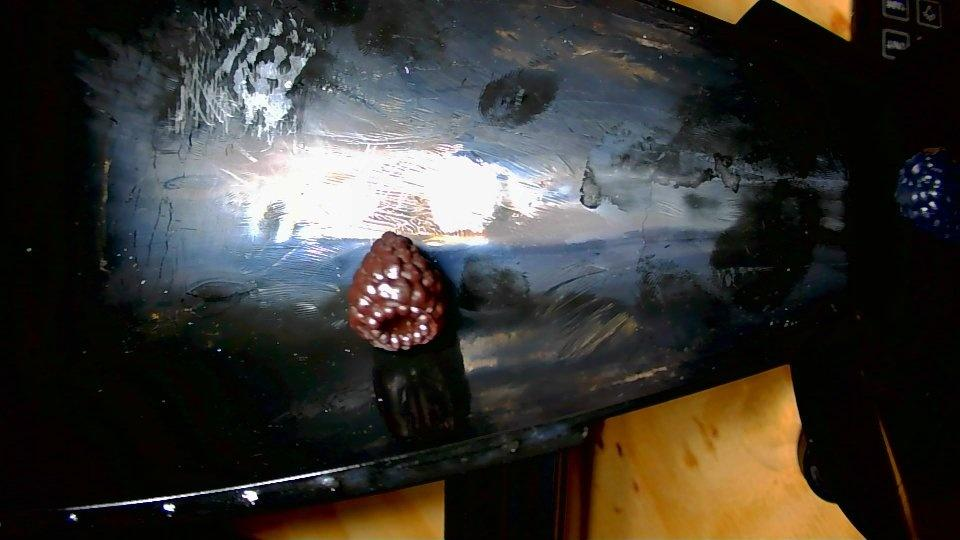berry: (348, 232, 446, 351), (894, 149, 959, 243)
